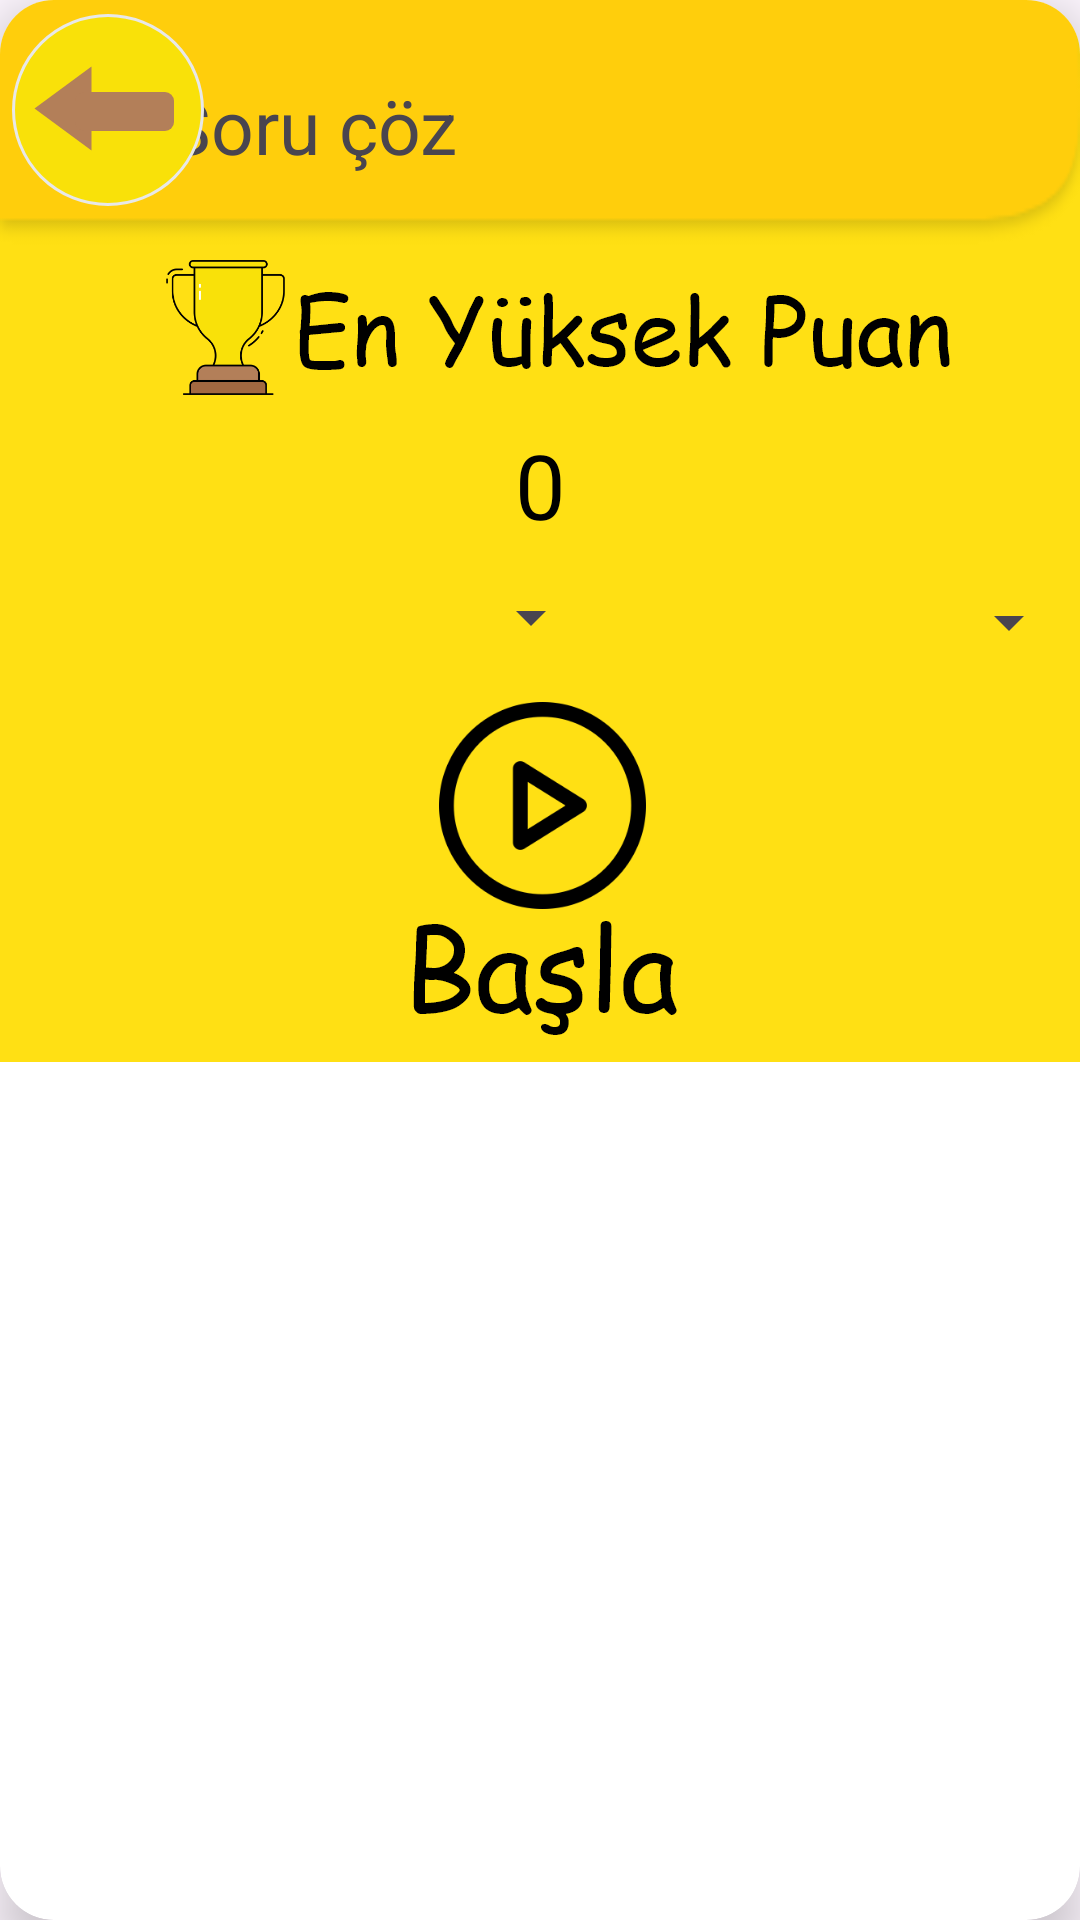

Point at icon controls on the screen. Image size 1080px x 1920px, points as [x,y].
dialoggeri: [108,108]
